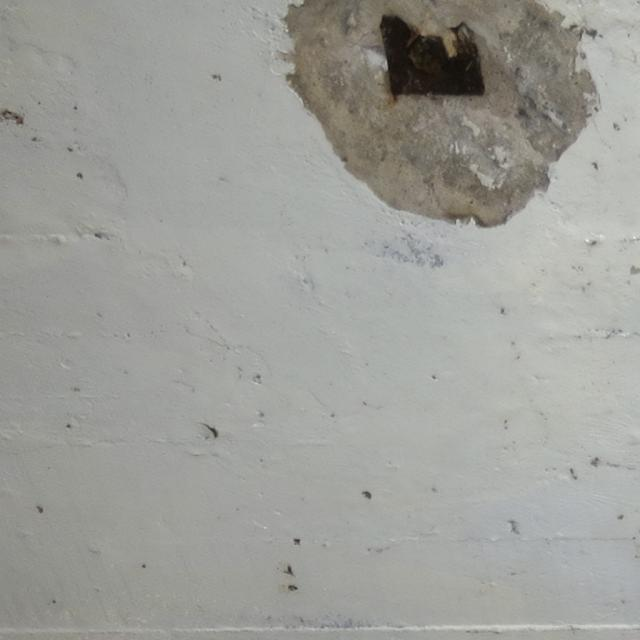D10: (286, 6, 597, 229)
